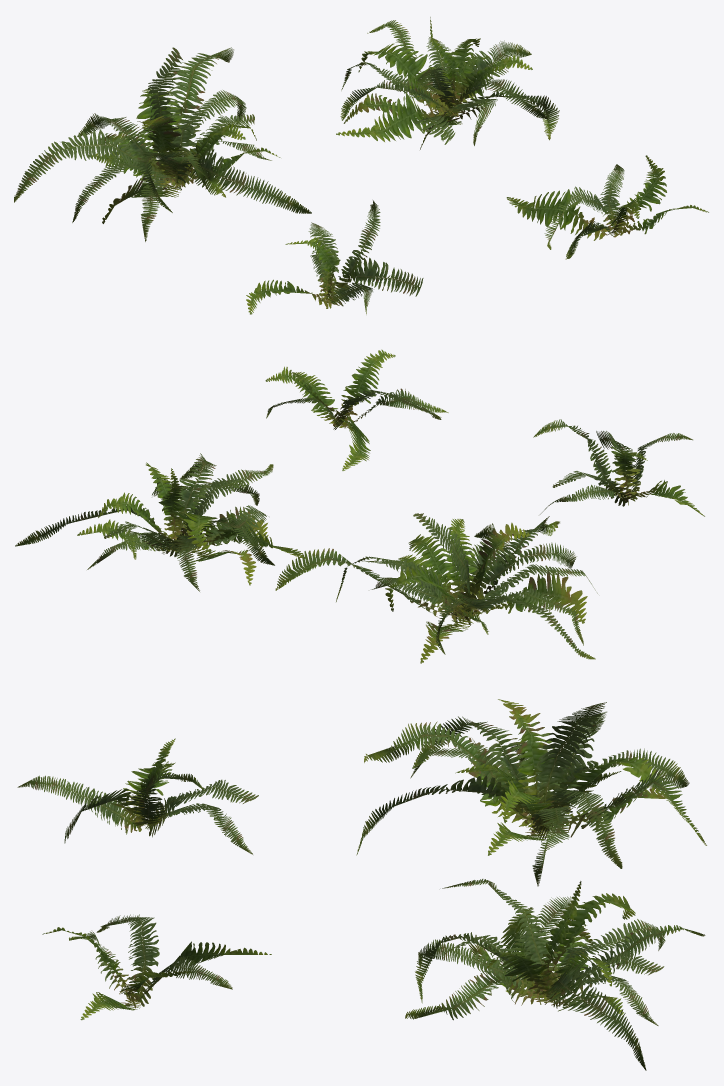
File: ph_fern_02_lod1.glb
3 renders of one model, top to bottom at view 1: azimuth 30°, elevation 25°; view 2: azimuth 150°, elevation 25°; view 3: azimuth 270°, elevation 25°, orthographic. The views are drawn at different scales.
Visible parts, largest first — view 1: fern_02_b, fern_02_c, fern_02_d, fern_02_a; view 2: fern_02_b, fern_02_c, fern_02_d, fern_02_a; view 3: fern_02_b, fern_02_c, fern_02_a, fern_02_d.
Boxes of the visible parts, x1=… form: fern_02_b: x1=14, y1=47, x2=311, y2=241; fern_02_c: x1=336, y1=17, x2=559, y2=149; fern_02_d: x1=506, y1=155, x2=708, y2=259; fern_02_a: x1=246, y1=200, x2=423, y2=314; fern_02_b: x1=275, y1=513, x2=597, y2=663; fern_02_c: x1=15, y1=453, x2=305, y2=591; fern_02_d: x1=265, y1=349, x2=448, y2=470; fern_02_a: x1=533, y1=419, x2=704, y2=516; fern_02_b: x1=356, y1=699, x2=706, y2=886; fern_02_c: x1=405, y1=879, x2=705, y2=1070; fern_02_a: x1=17, y1=738, x2=258, y2=854; fern_02_d: x1=42, y1=914, x2=271, y2=1020.
Size of the model in its own units: 1.96 by 0.4246 by 1.72.
1 material, 1 textured.
